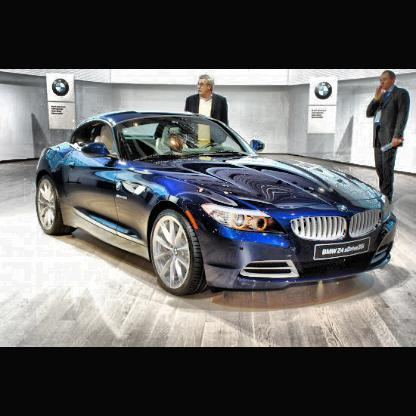BMW Z4 Convertible 2012: (35, 111, 401, 302)
